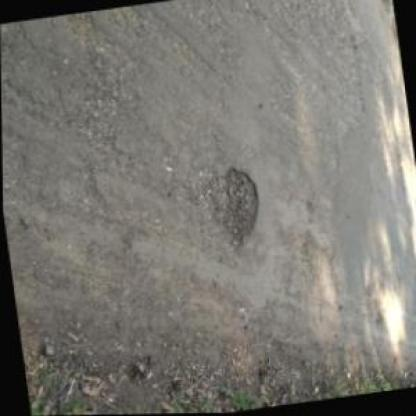pothole: (209, 162, 266, 257)
